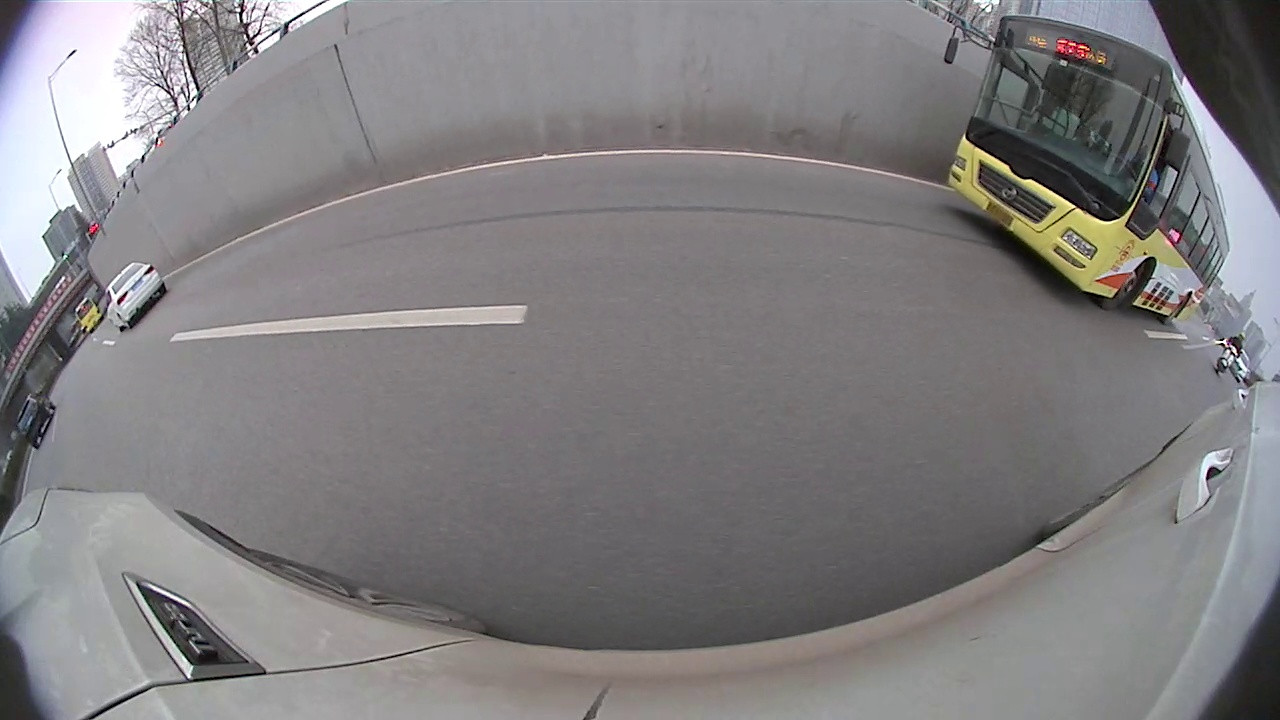bus: (958, 154, 1253, 349)
car: (24, 108, 474, 471), (440, 143, 546, 218), (598, 154, 633, 194), (573, 159, 601, 184)
front: (446, 204, 476, 260), (632, 165, 652, 203), (982, 210, 1005, 232), (535, 184, 546, 205)
rear: (210, 285, 312, 406), (694, 153, 732, 224), (1121, 258, 1152, 297), (510, 185, 525, 216)
truck: (630, 0, 1004, 229)
